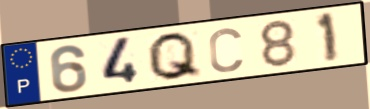1: (313, 10, 342, 65)
4: (98, 34, 146, 88)
6: (48, 43, 89, 94)
8: (256, 18, 299, 69)
C: (206, 26, 245, 75)
Q: (145, 30, 204, 83)
